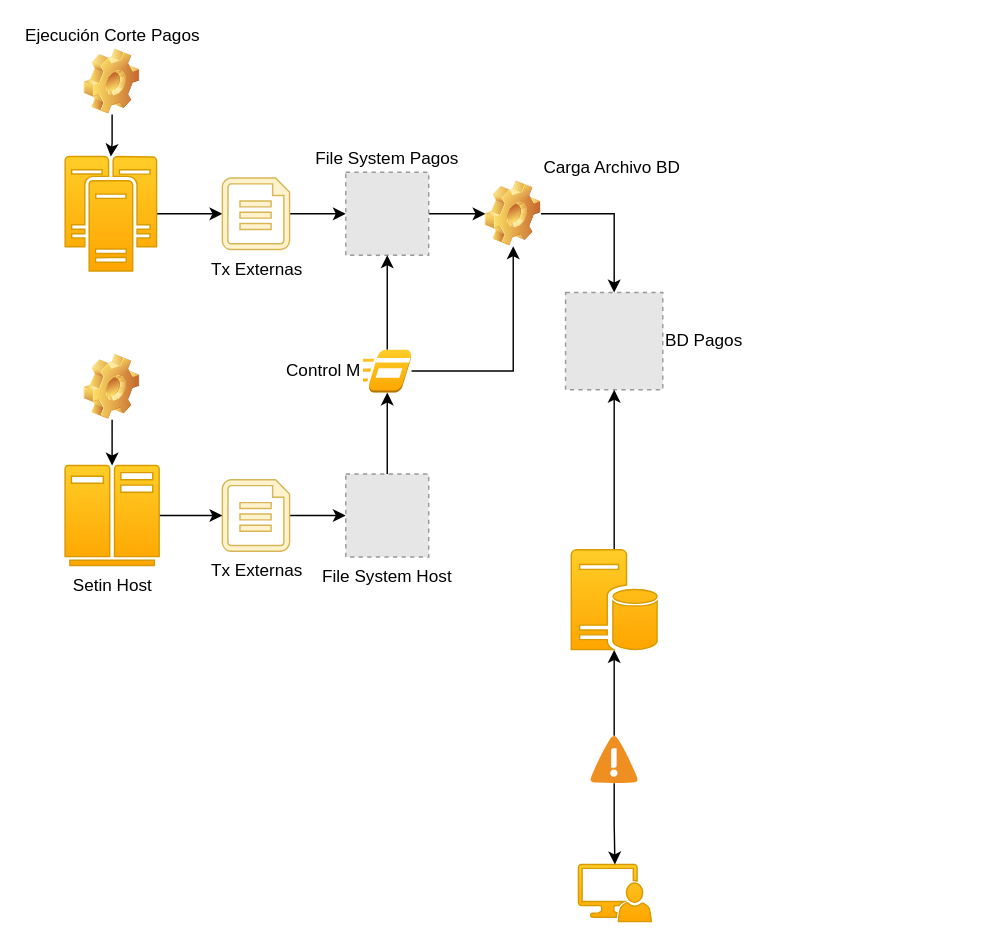
Image size: 987x947. Some labels were removed from this diagram. Grey dashed boxes stand in for pictures. Here are the shapes that lost their labels. From the top down, the box of each, then its label:
(64, 155, 157, 271): Pagos Server
(84, 354, 139, 419): Carga Corte Pagos
(570, 548, 657, 650): Software MonitoreoSitescope
(577, 863, 651, 922): CoE TI - Monitoreo de Experiencia Digital
